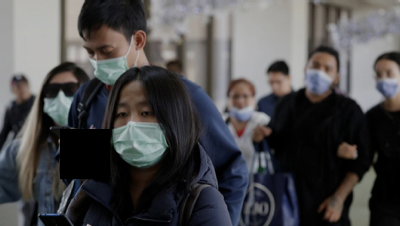mask_weared_incorrect: (227, 91, 255, 122)
with_mask: (110, 95, 171, 169), (43, 77, 83, 127), (305, 58, 337, 93), (374, 66, 400, 98)
without_mask: (267, 74, 290, 96)
